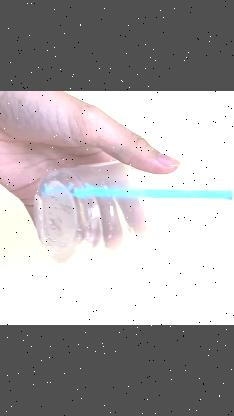Others: (35, 138, 234, 267)
